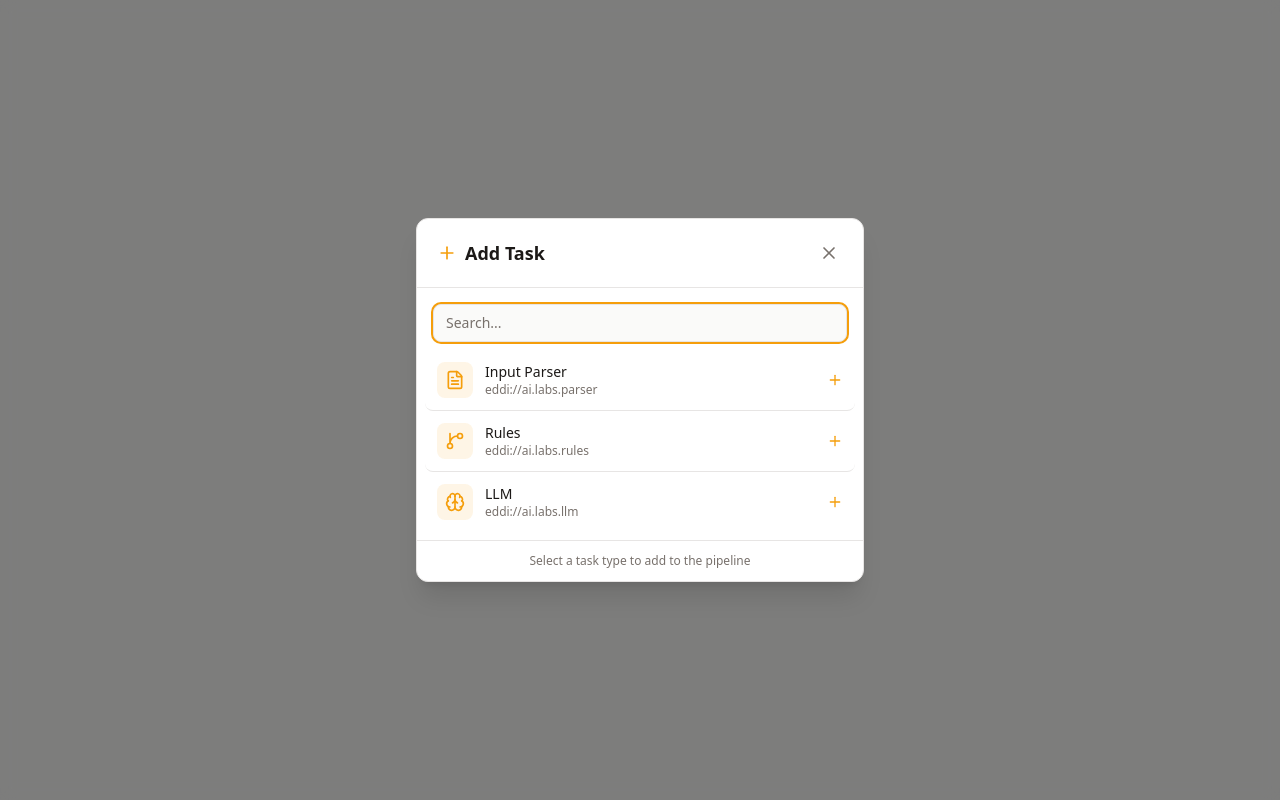
Test: AddExtensionDialog › selects parser (has resource store) and goes to step 2
Click the button with test id "ext-option-eddi://ai.labs.parser" at [455, 380], box x1=425 y1=350 x2=855 y2=411
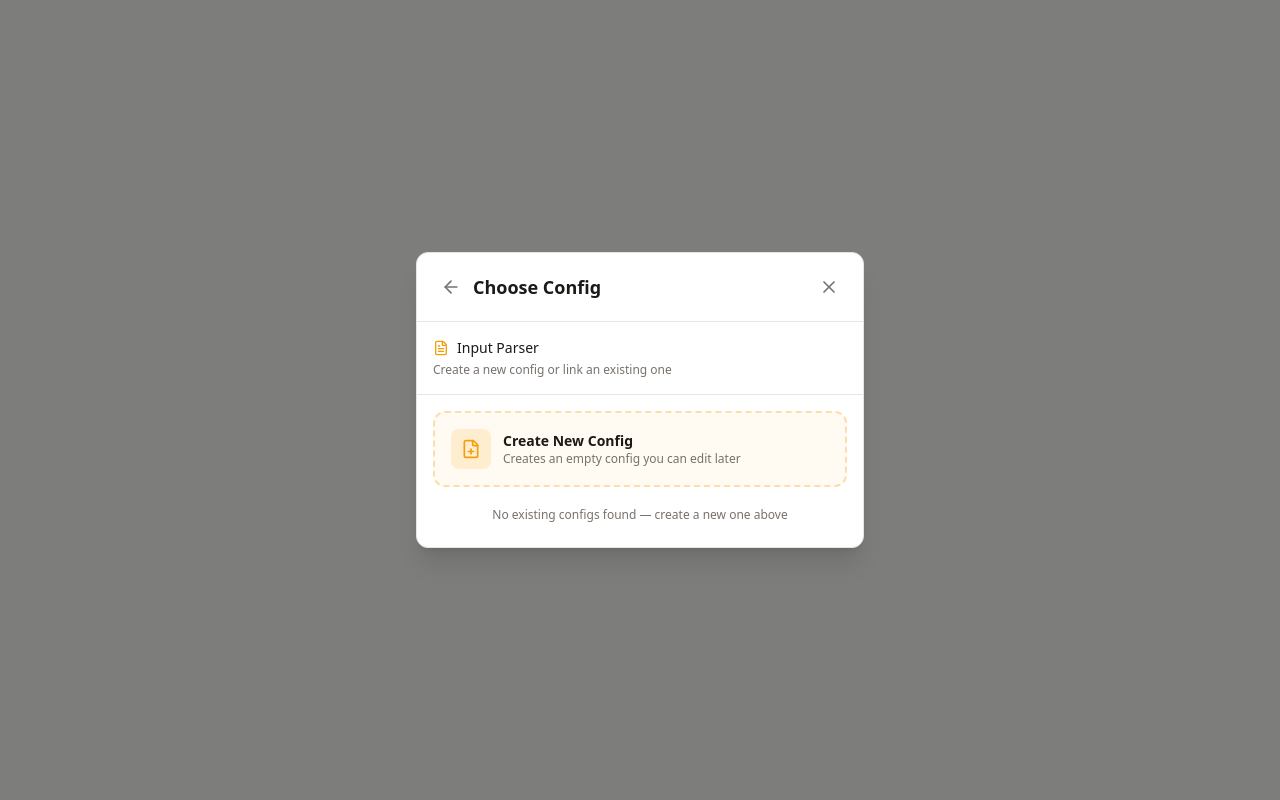
Expected: the heading "Choose Config" is shown, x1=473 y1=273 x2=601 y2=301
Expected: the button with test id "create-new-config" is shown, x1=433 y1=411 x2=847 y2=487
Expected: the button with test id "back-to-types" is shown, x1=437 y1=273 x2=465 y2=301
